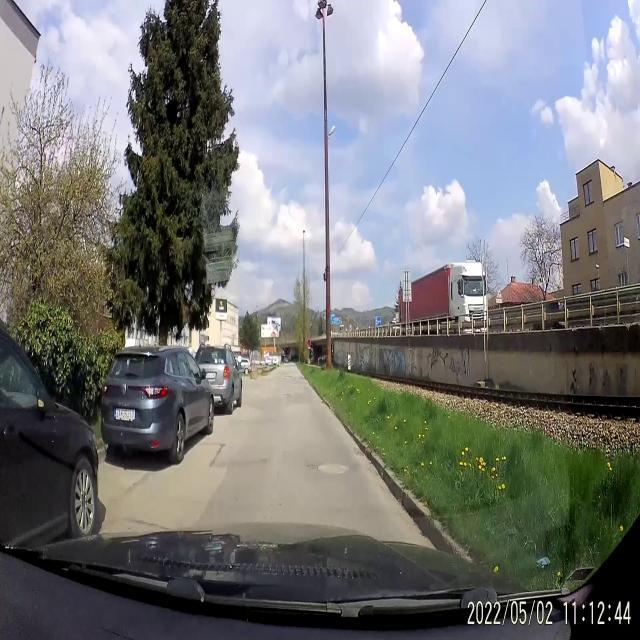Manhole: (307, 454, 347, 479)
